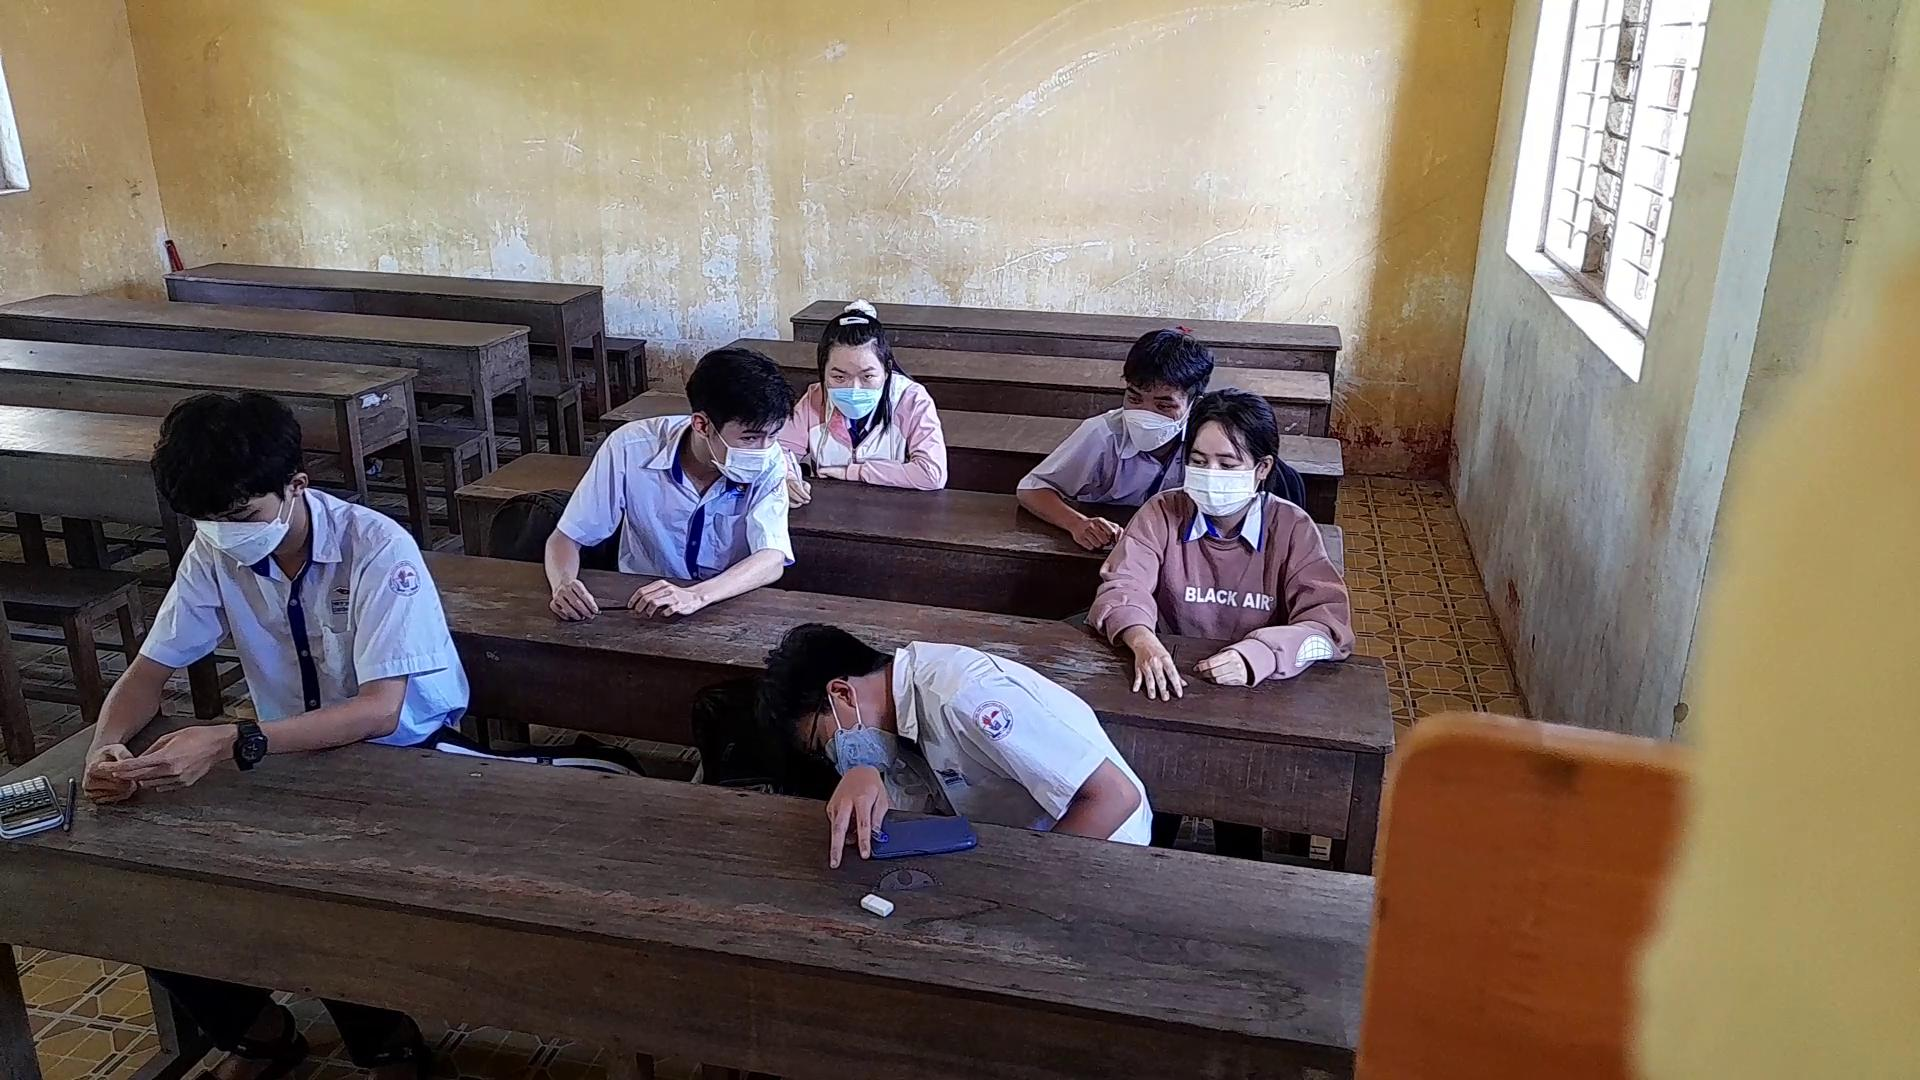Bend Over The Desk: (735, 613, 932, 775)
Hand Under Table: (948, 675, 1142, 844)
Look Around: (665, 332, 814, 500)
Normal: (75, 382, 471, 806), (1087, 368, 1364, 705), (775, 293, 959, 489)
